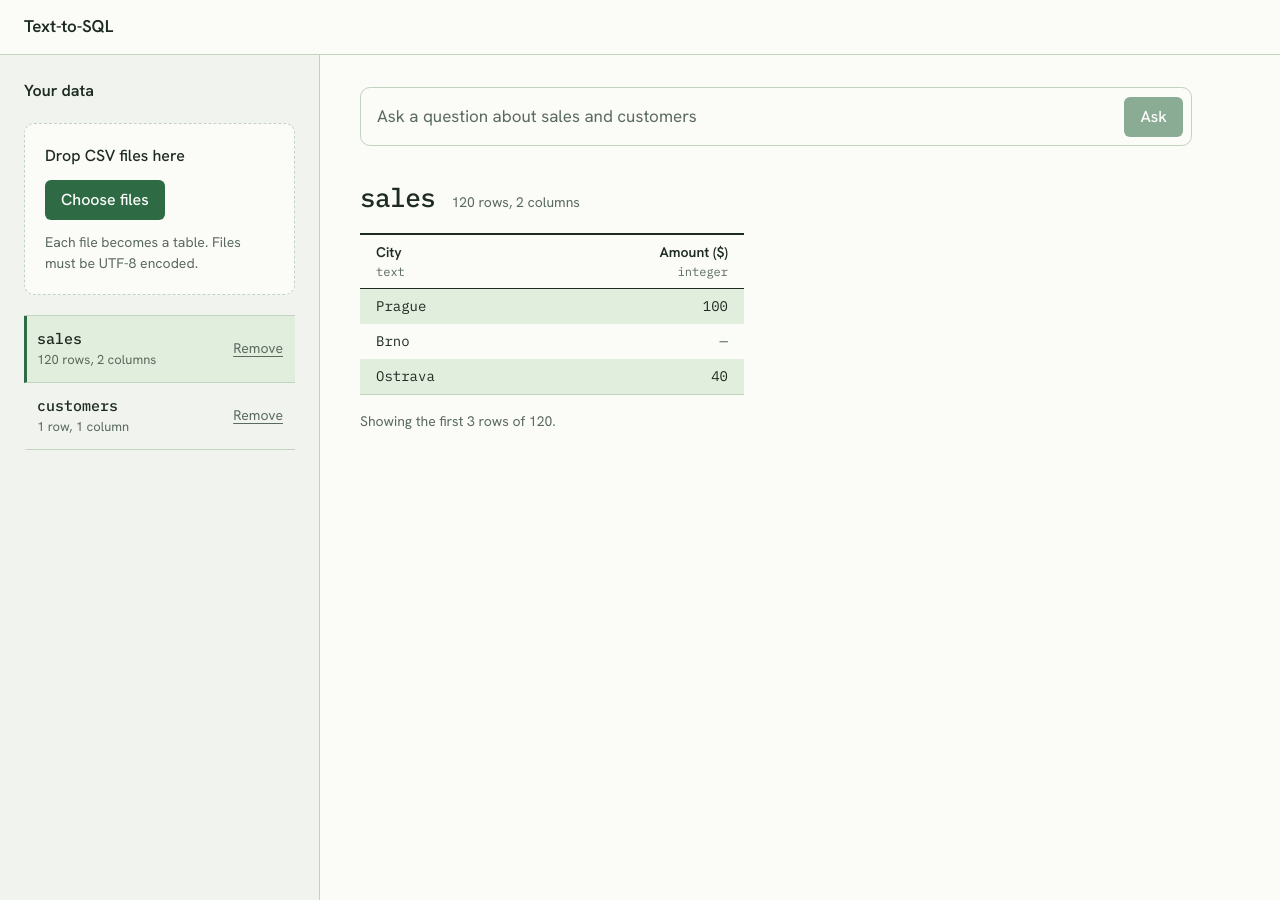
Test: App › removes a table only after confirmation
Expected: the heading "sales" is shown, [360,178,435,217]
Click the button with aria-label "Remove sales".
click(258, 348)  # box [229,336,287,361]
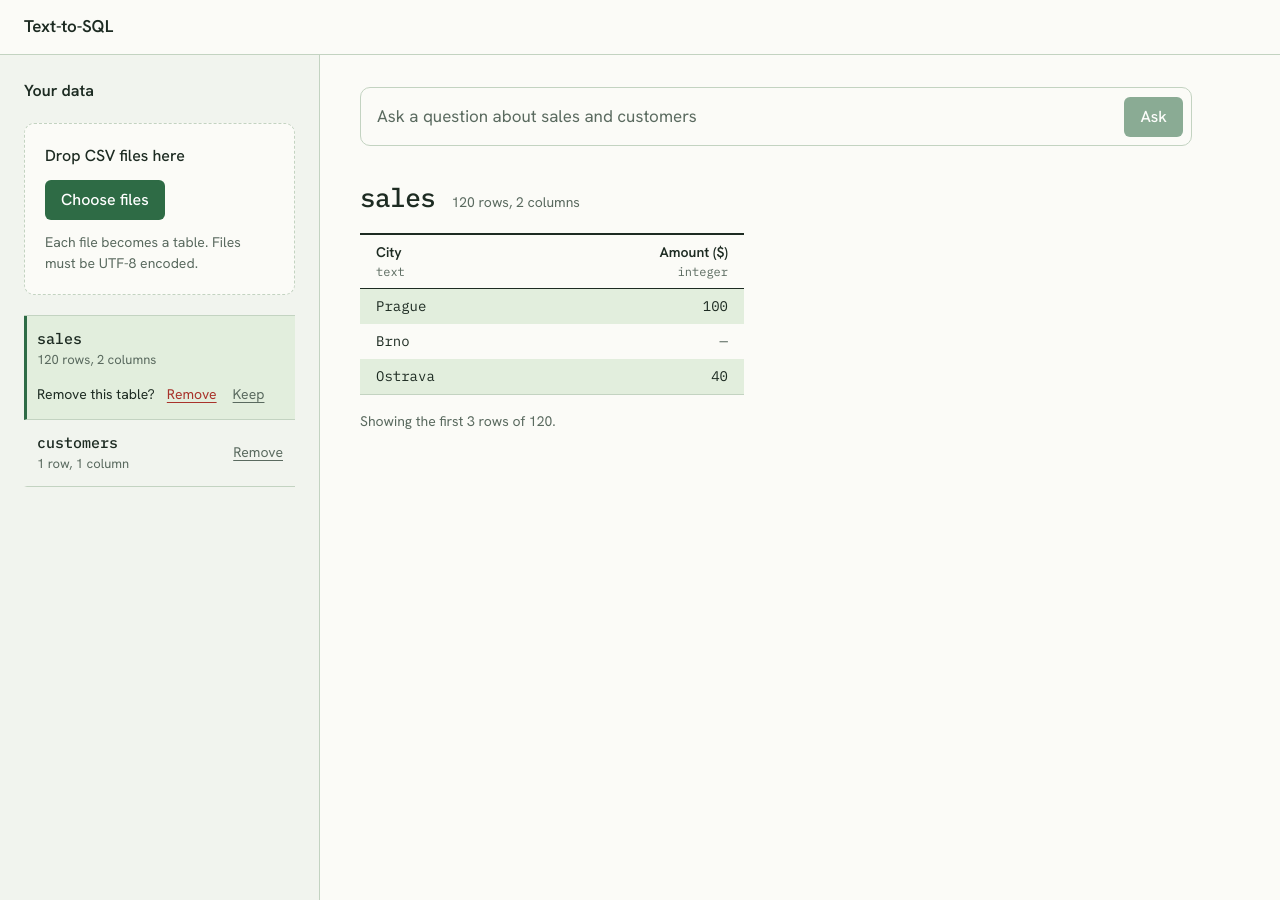
Click the button "Keep".
click(249, 394)  # box [229,382,268,406]
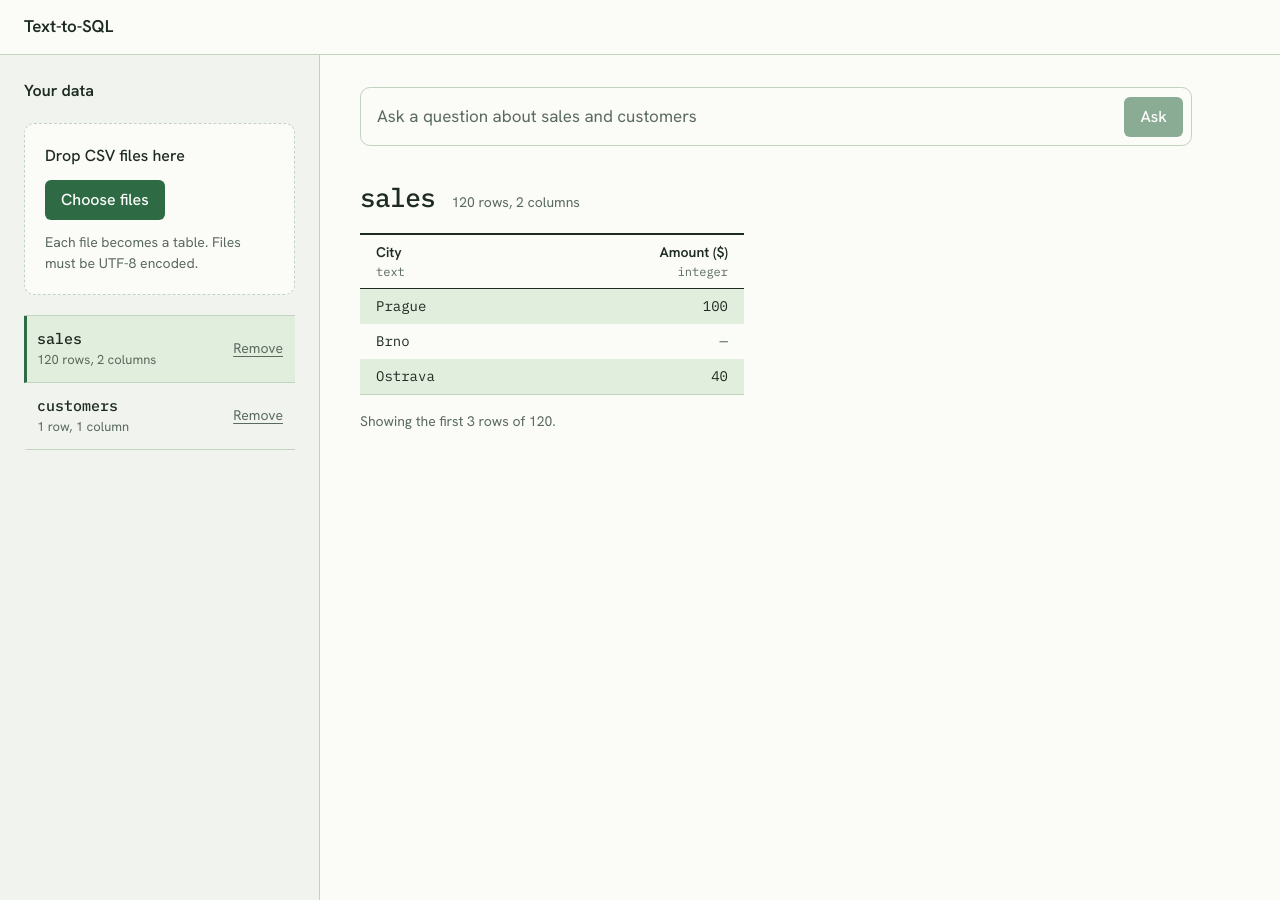
Click the button with aria-label "Remove sales".
click(258, 348)  # box [229,336,287,361]
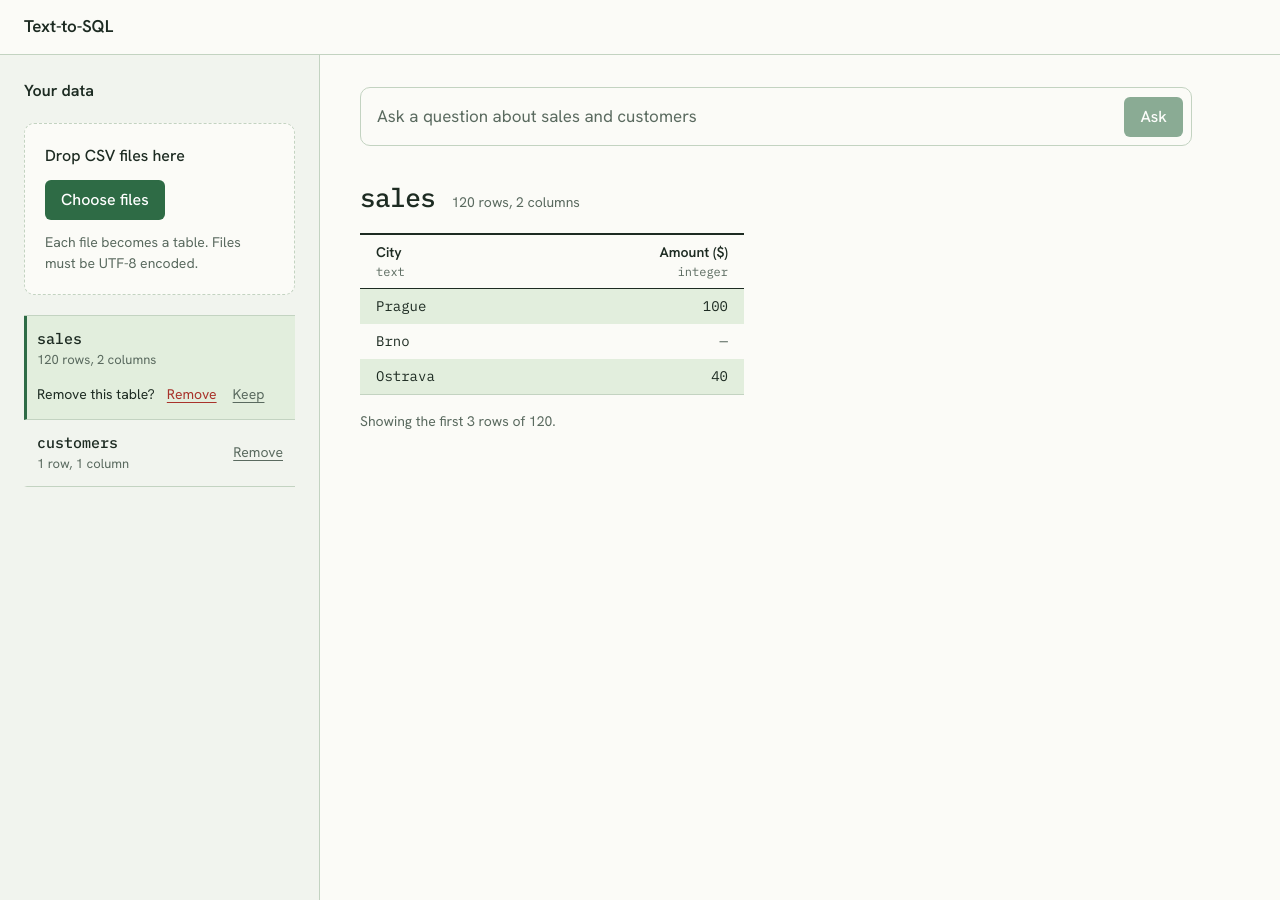
Click the button "Remove" next to "Remove this table?".
click(192, 394)  # box [163,382,221,406]
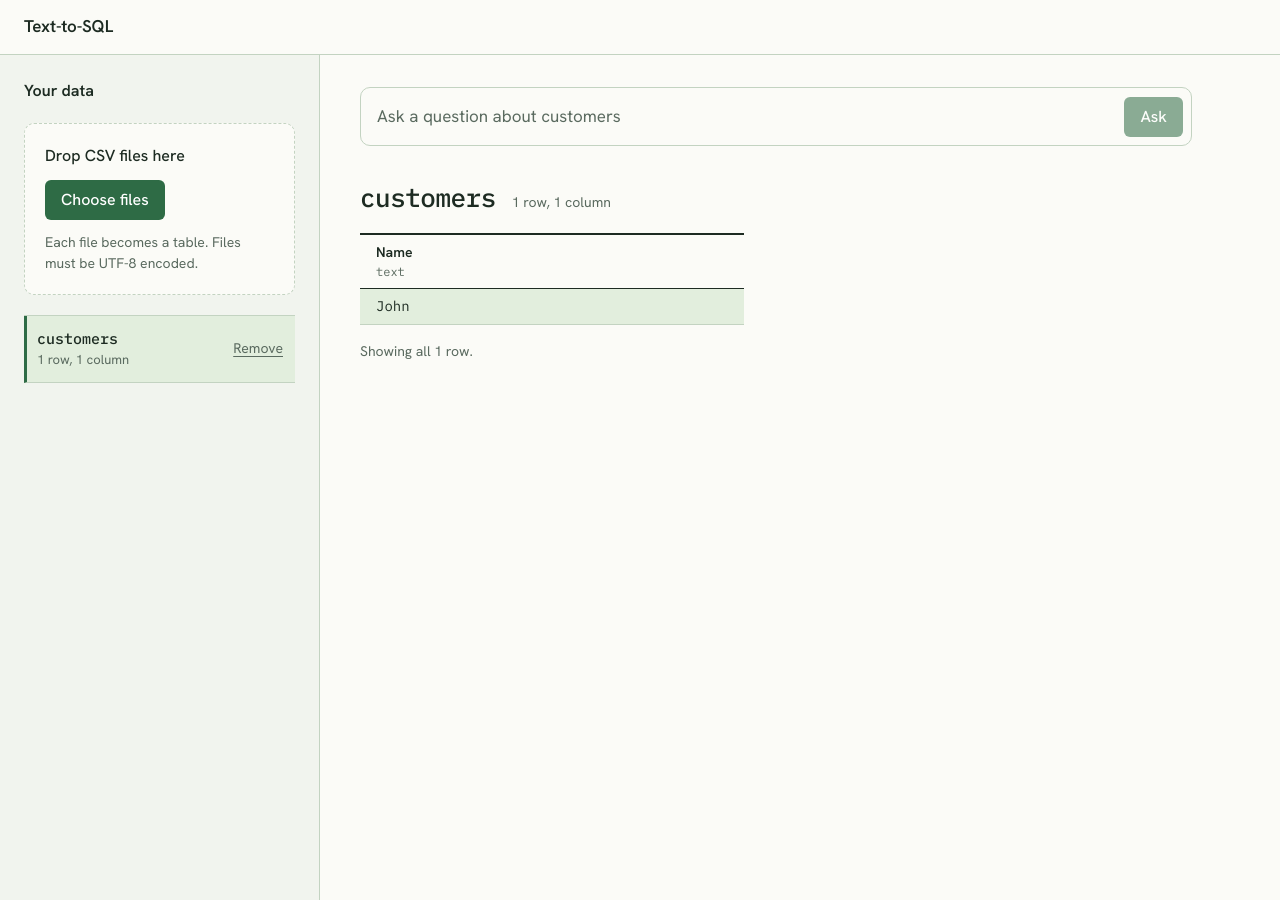
Now the heading "customers" is shown, box [360,178,496,217]
Now the button "sales" is gone
